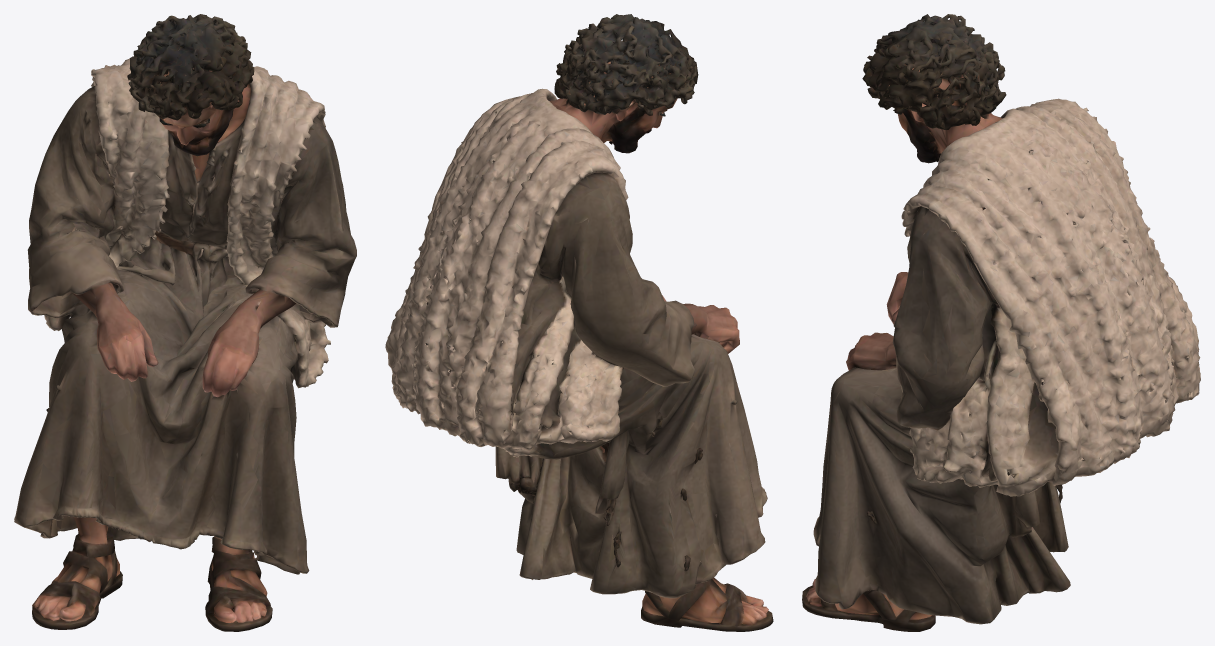
File: joseph-seated-pixal3d-runtime.glb
3 renders of one model, left to right at view 1: azimuth 30°, elevation 25°; view 2: azimuth 150°, elevation 25°; view 3: azimuth 270°, elevation 25°, orthographic. The views are drawn at different scales.
Visible parts, largest first — view 1: geometry_0; view 2: geometry_0; view 3: geometry_0.
Boxes of the visible parts, left/top/right/bottom form: geometry_0: left=14, top=14, right=356, bottom=631; geometry_0: left=385, top=14, right=773, bottom=631; geometry_0: left=802, top=14, right=1200, bottom=631.
Size of the model in its own units: 0.8191 by 1.35 by 0.8192.
Materials: 1 (1 with a texture image).
